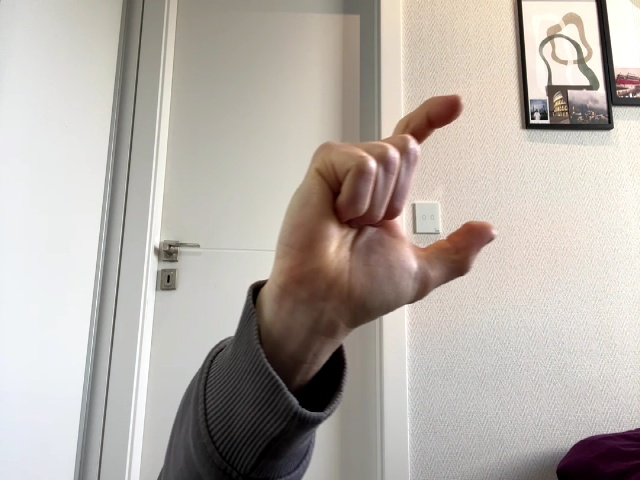C: (271, 95, 496, 335)
